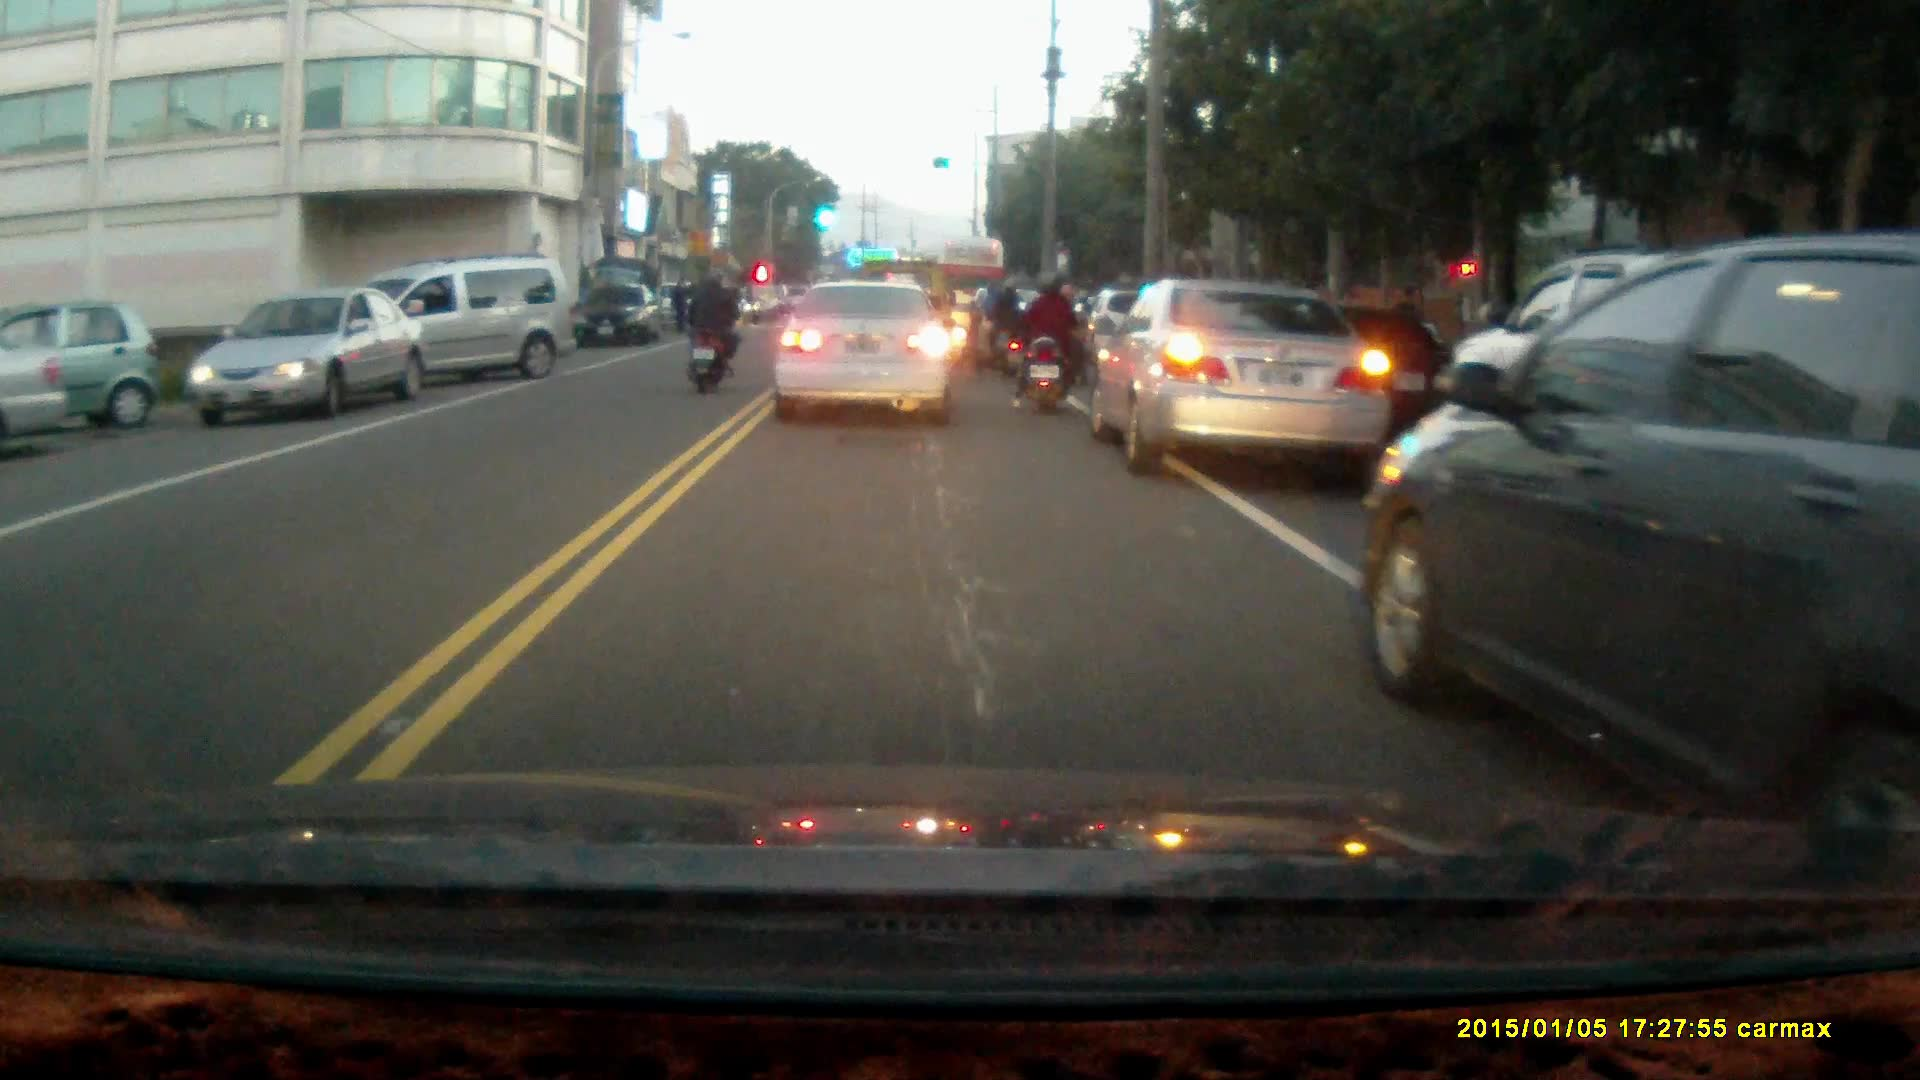pedestrian: (669, 276, 693, 335)
rider: (1011, 268, 1087, 416), (682, 271, 739, 391), (965, 272, 1023, 379)
vehicle: (1351, 232, 1920, 852), (1446, 251, 1920, 557), (1083, 273, 1392, 474), (308, 257, 575, 403), (193, 290, 427, 427), (777, 284, 954, 426), (1, 296, 163, 433), (1, 340, 74, 453), (566, 283, 664, 350)
